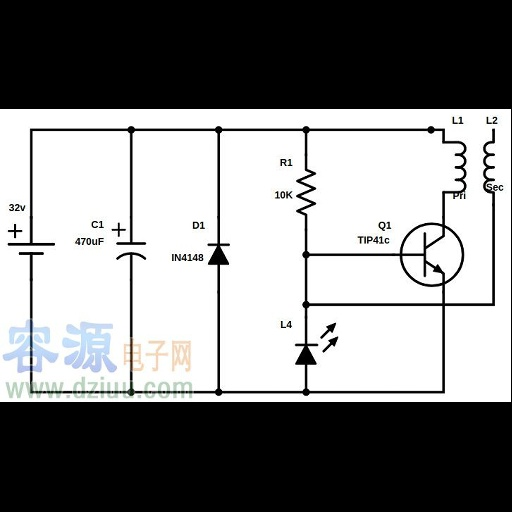firstdiode: (205, 239, 234, 270)
firstled: (294, 320, 341, 370)
firstpolarcapacitor: (112, 220, 153, 268), (4, 224, 60, 259)
npn: (407, 230, 451, 278)
secondresistance: (296, 161, 320, 221)
transformer: (453, 139, 496, 197)
